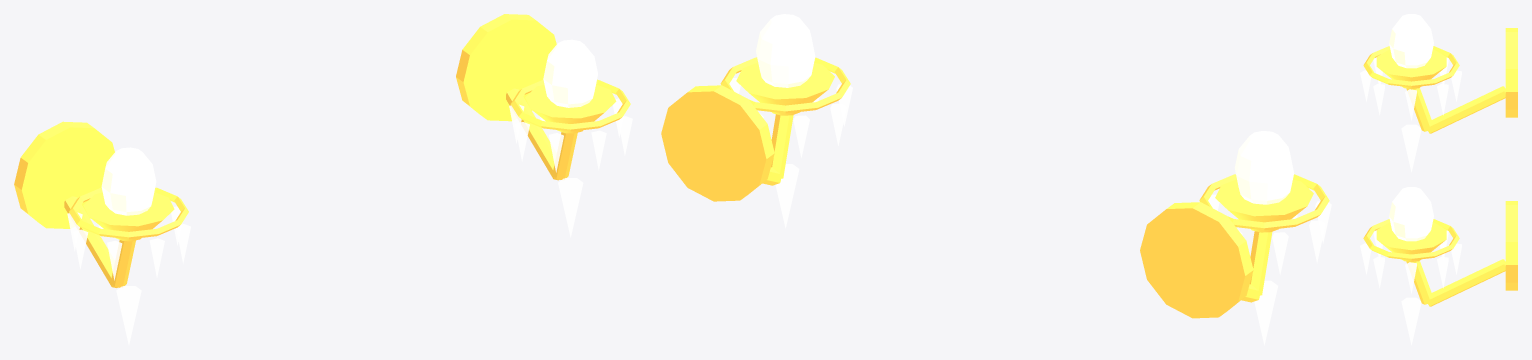
File: lux_crystal_sconces.glb
3 renders of one model, left to right at view 1: azimuth 30°, elevation 25°; view 2: azimuth 150°, elevation 25°; view 3: azimuth 270°, elevation 25°, orthographic. The views are drawn at different scales.
Visible parts, largest first — view 1: lux_crystal_sconces; view 2: lux_crystal_sconces; view 3: lux_crystal_sconces.
Boxes of the visible parts, x1,y1,x2,y2 form: lux_crystal_sconces: (14,14,632,344); lux_crystal_sconces: (661,14,1331,345); lux_crystal_sconces: (1360,14,1517,345).
Bounding box in the file's own units: 1.25 × 0.427 × 0.386.
